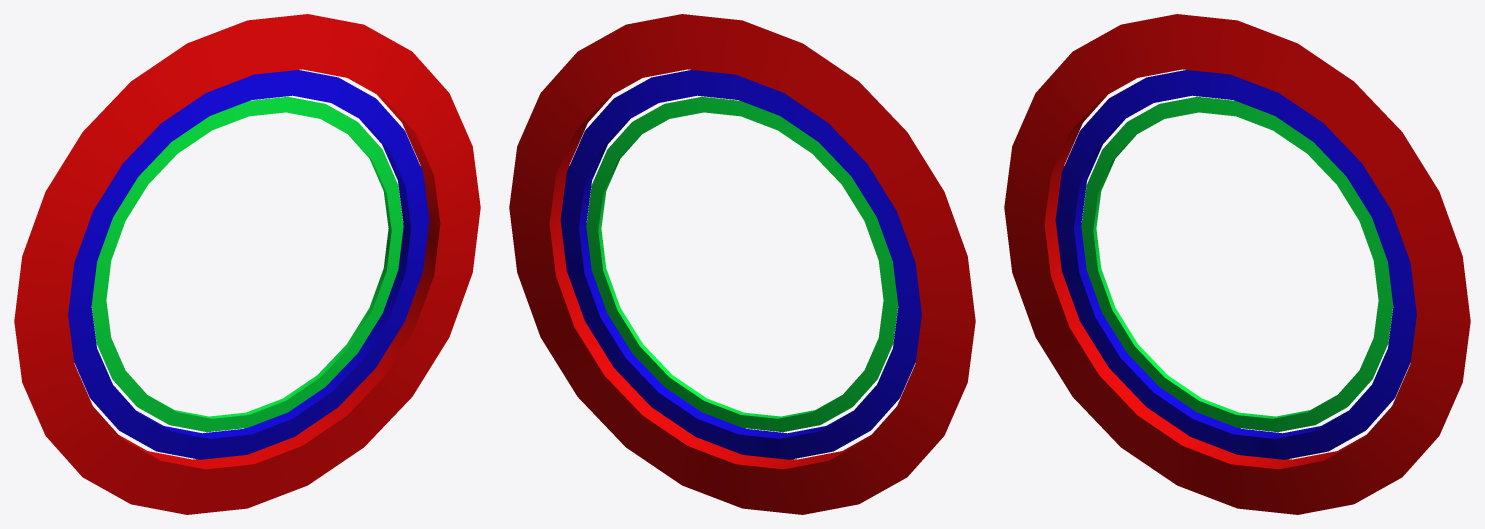
Rendered from rings.fbx.
3 renders of one model, left to right at view 1: azimuth 30°, elevation 25°; view 2: azimuth 150°, elevation 25°; view 3: azimuth 330°, elevation 25°, orthographic.
Visible parts, largest first — view 1: power_ring:Layer1, power_ring:Layer2, power_ring:Layer3; view 2: power_ring:Layer1, power_ring:Layer2, power_ring:Layer3; view 3: power_ring:Layer1, power_ring:Layer2, power_ring:Layer3.
Part boxes in pixels (left/top/right/bottom): power_ring:Layer1: left=14, top=14, right=480, bottom=514; power_ring:Layer2: left=68, top=70, right=429, bottom=459; power_ring:Layer3: left=91, top=96, right=403, bottom=432; power_ring:Layer1: left=509, top=14, right=975, bottom=514; power_ring:Layer2: left=560, top=70, right=921, bottom=459; power_ring:Layer3: left=586, top=96, right=898, bottom=432; power_ring:Layer1: left=1004, top=14, right=1470, bottom=514; power_ring:Layer2: left=1055, top=70, right=1416, bottom=459; power_ring:Layer3: left=1081, top=96, right=1393, bottom=432.
Bounding box in the file's own units: 1 × 1 × 0.05.
